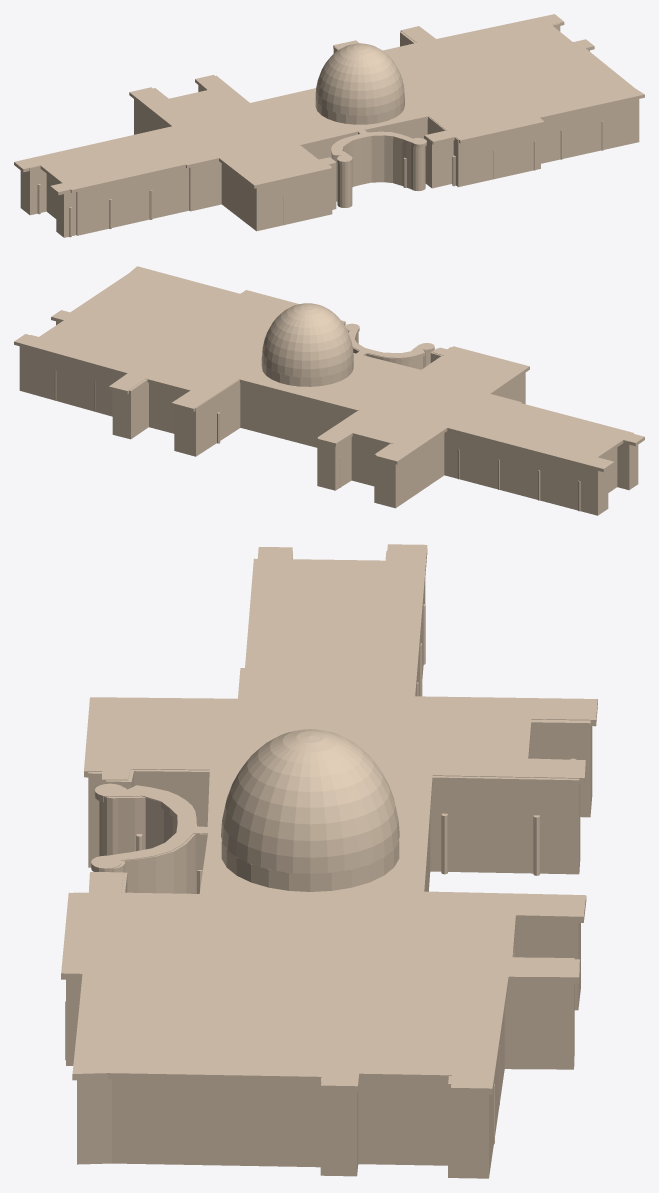
The model's file is south-block_lod0.glb.
The picture shows the model from 3 angles, top to bottom: view 1: azimuth 30°, elevation 25°; view 2: azimuth 150°, elevation 25°; view 3: azimuth 270°, elevation 25°; orthographic projection. The views are drawn at different scales.
Visible parts, largest first — view 1: south-block; view 2: south-block; view 3: south-block.
Part boxes in pixels (box(x1,y1,x2,y2)): south-block: box(14, 14, 644, 237); south-block: box(14, 266, 644, 515); south-block: box(61, 544, 597, 1178).
Size of the model in its own units: 372 by 67.92 by 155.
